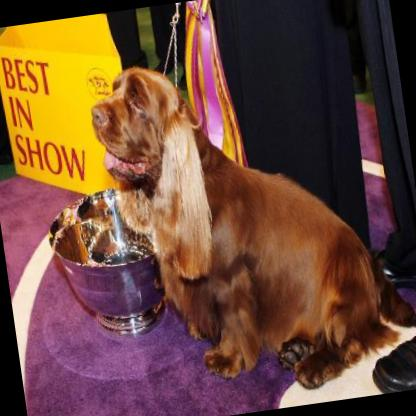Sussex_spaniel: (83, 32, 401, 414)
